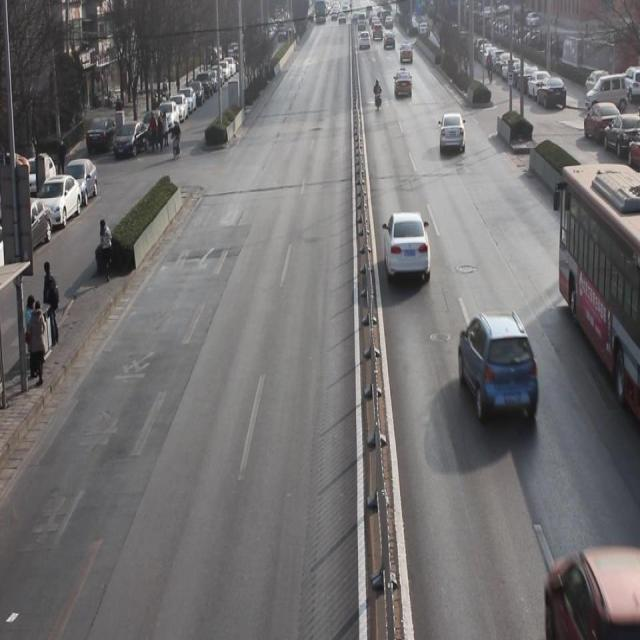car: (458, 311, 538, 436), (546, 551, 640, 640), (386, 212, 434, 294), (439, 111, 467, 159), (395, 71, 413, 104), (399, 45, 414, 69)
van: (556, 167, 640, 418)
